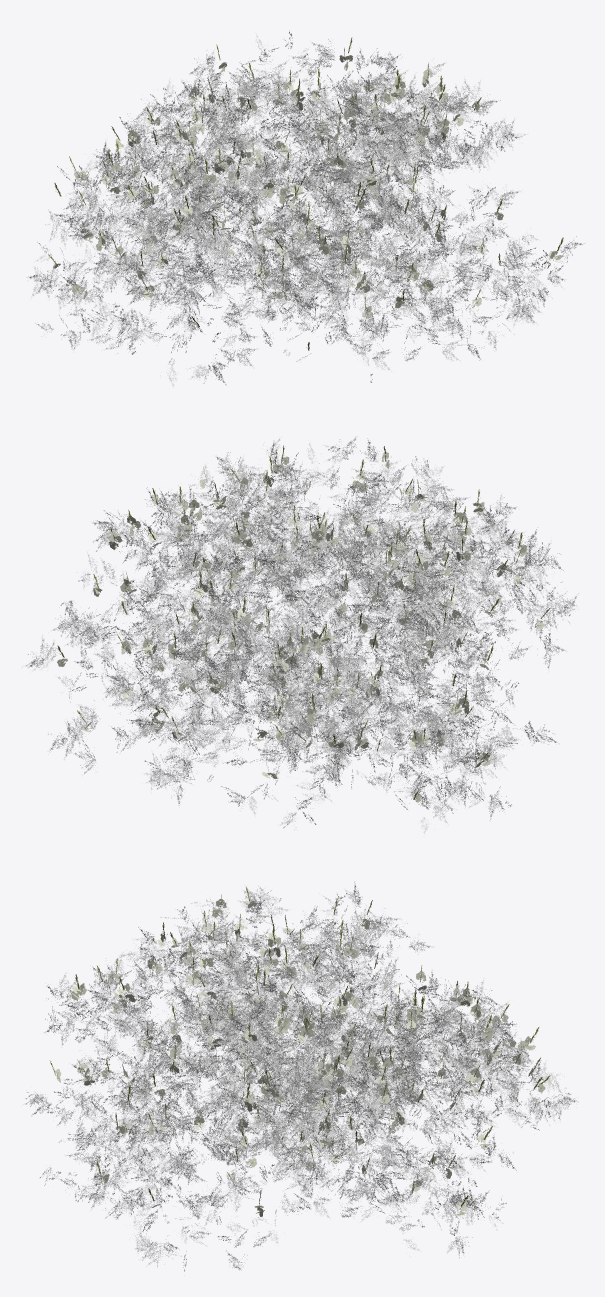
The model's file is MESH_OC56_MelaleucaAlternifolia_A_LOD1.fbx.
3 renders of one model, top to bottom at view 1: azimuth 30°, elevation 25°; view 2: azimuth 150°, elevation 25°; view 3: azimuth 270°, elevation 25°, orthographic. The views are drawn at different scales.
Visible parts, largest first — view 1: MI_LOD1_001, MI_LOD1_003, MI_LOD1_002; view 2: MI_LOD1_001, MI_LOD1_003, MI_LOD1_002; view 3: MI_LOD1_001, MI_LOD1_003, MI_LOD1_002.
Boxes of the visible parts, <box> form: MI_LOD1_001: <box>27,31,584,386</box>; MI_LOD1_003: <box>53,55,563,318</box>; MI_LOD1_002: <box>48,37,563,350</box>; MI_LOD1_001: <box>22,436,578,833</box>; MI_LOD1_003: <box>57,451,545,802</box>; MI_LOD1_002: <box>57,445,550,799</box>; MI_LOD1_001: <box>23,882,578,1271</box>; MI_LOD1_003: <box>54,899,545,1216</box>; MI_LOD1_002: <box>49,887,550,1206</box>.
Size of what is drawn, in the model's own units: 555 by 397 by 585.
